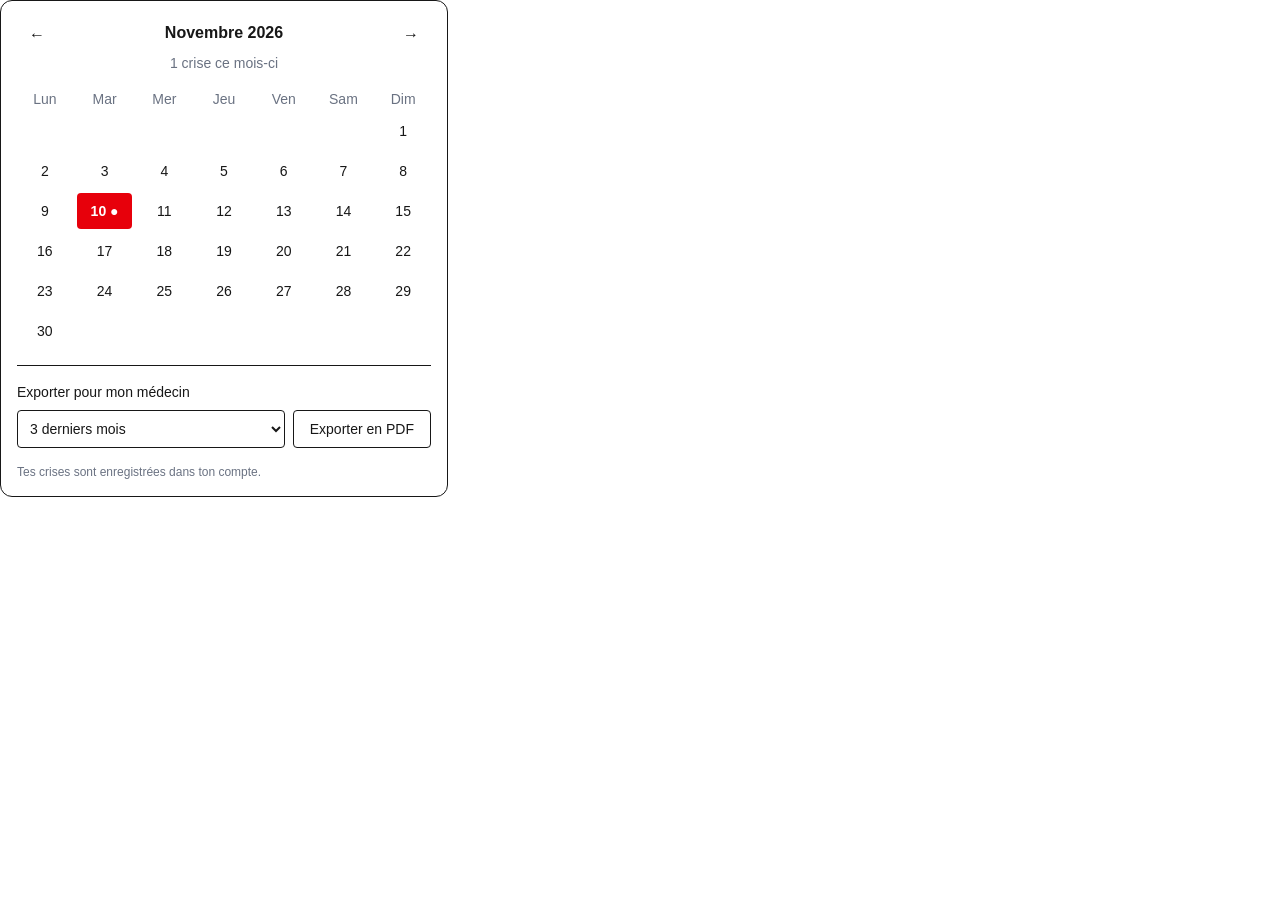
Test: suppression d'une crise › ne supprime rien si on clique sur Annuler
Click the button "10 ●": x=105, y=211 [77,193,132,229]
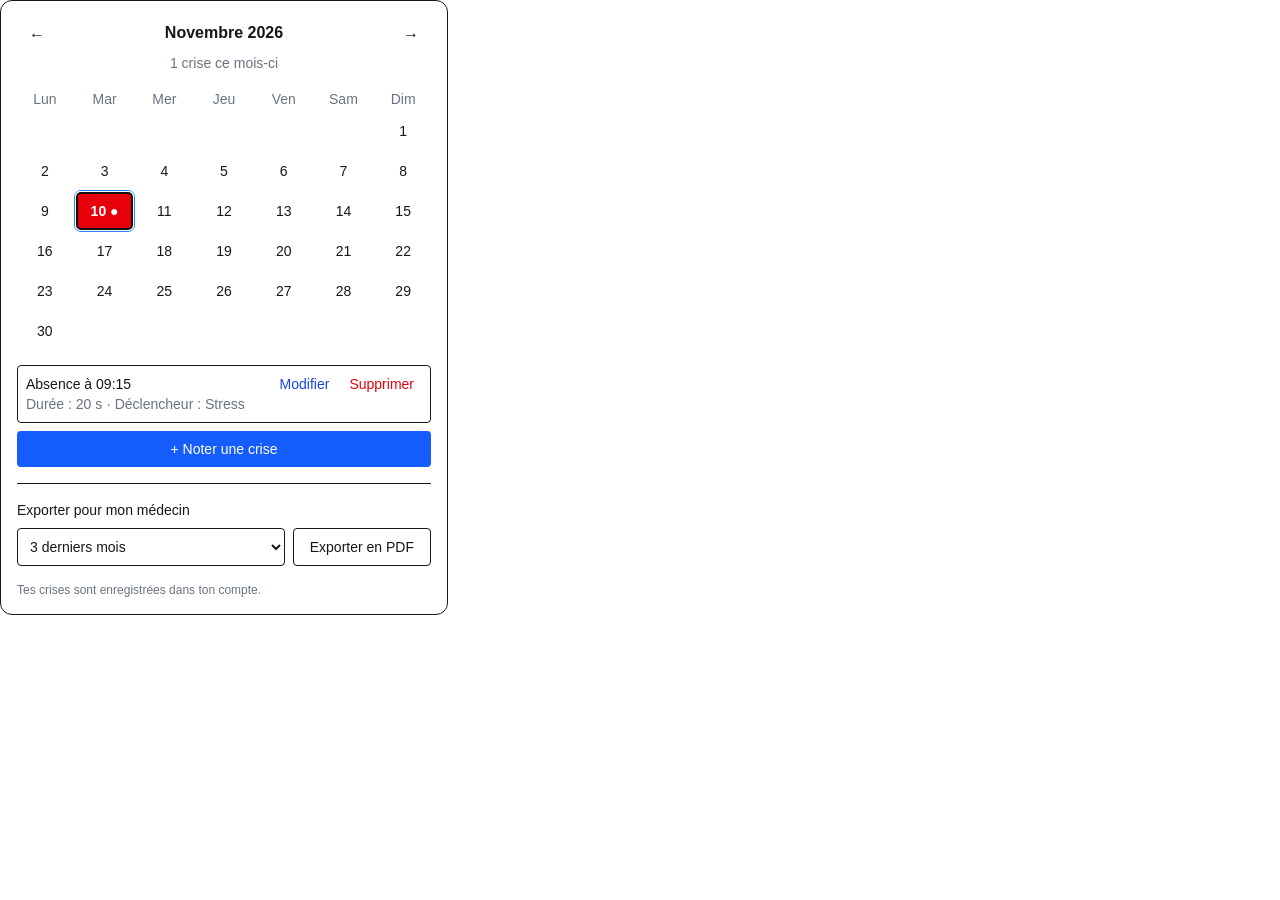
Click the button with aria-label "Supprimer cette crise": x=382, y=384 [341,374,422,394]
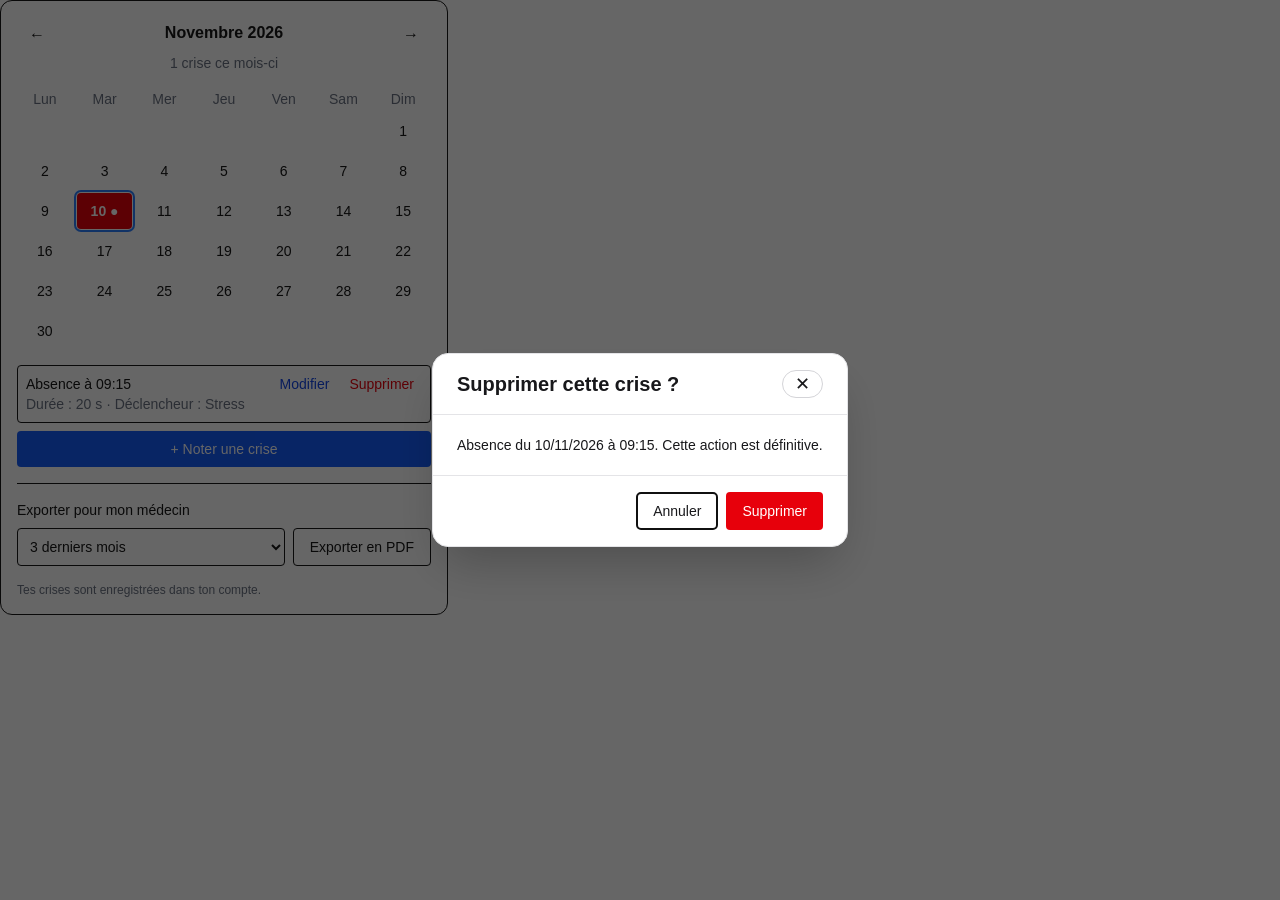
Click the button "Annuler": x=677, y=511 [636,492,718,530]
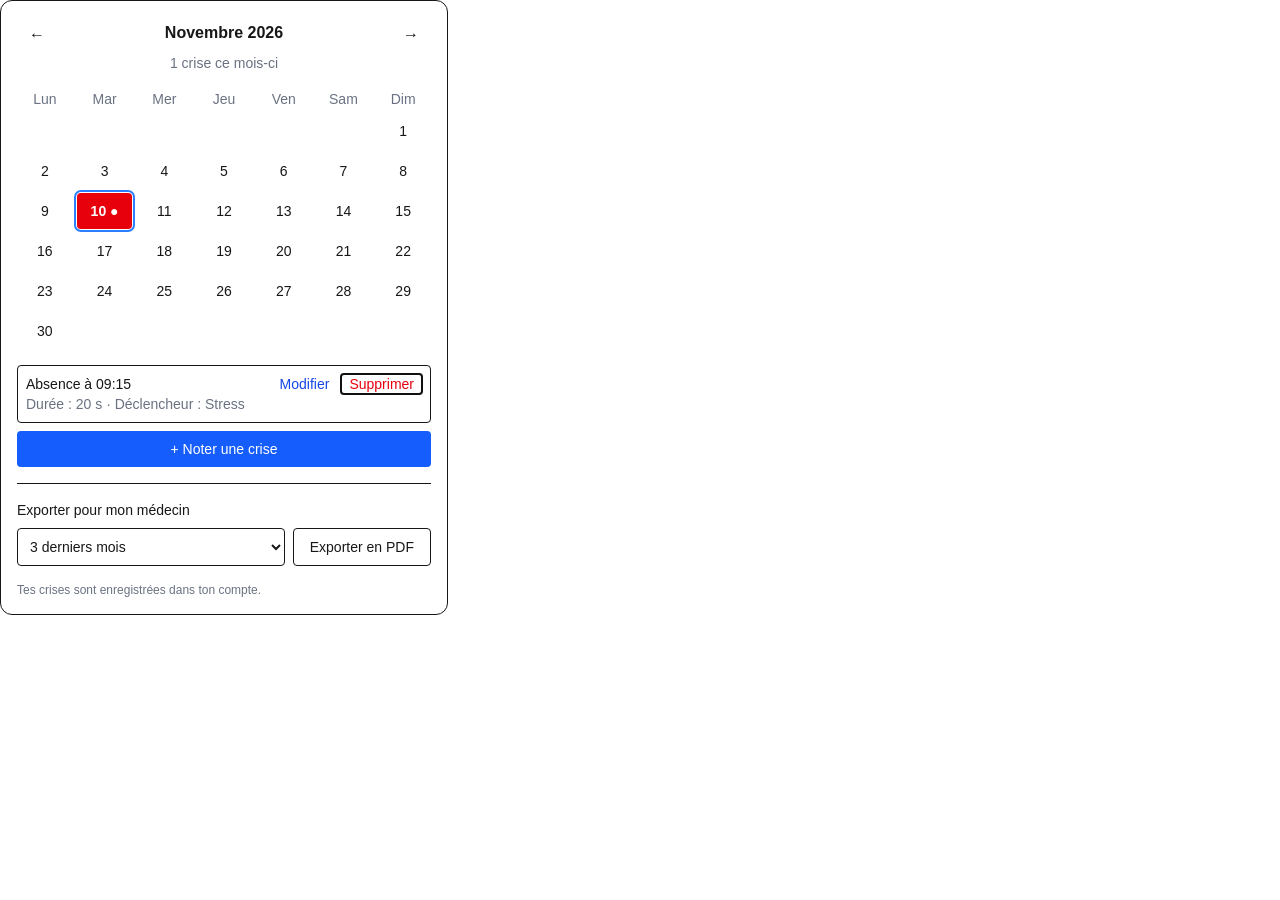
Expected: the text "Absence à 09:15" is shown, [26,376,131,392]
Expected: the text "Cette action est définitive" is gone
